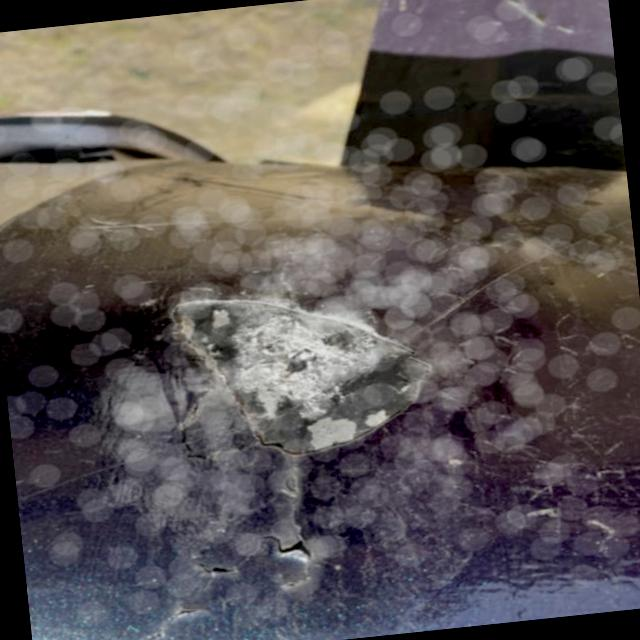crack: (190, 526, 328, 588), (137, 600, 232, 638)
dent: (160, 264, 448, 480)
